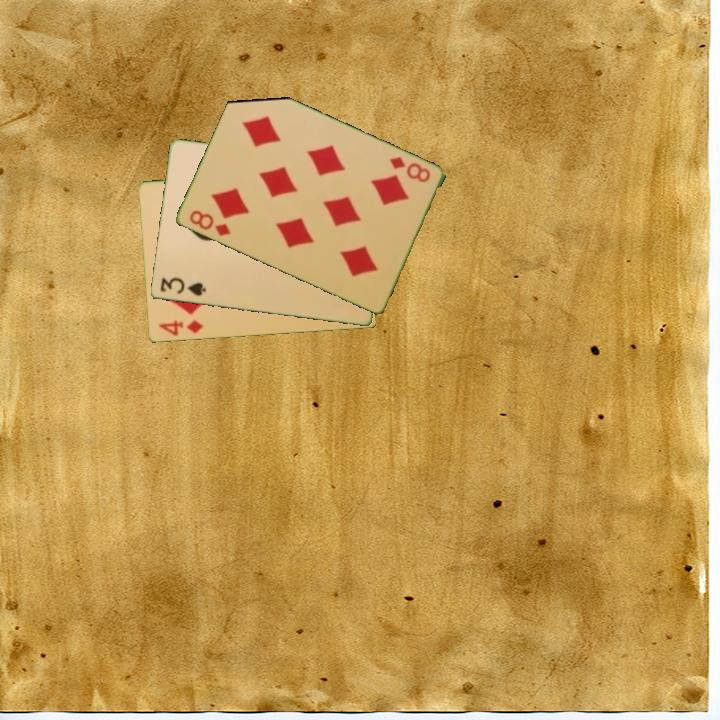3s: (156, 274, 209, 299)
4d: (155, 317, 206, 339)
8d: (385, 153, 433, 186), (185, 207, 233, 239)
